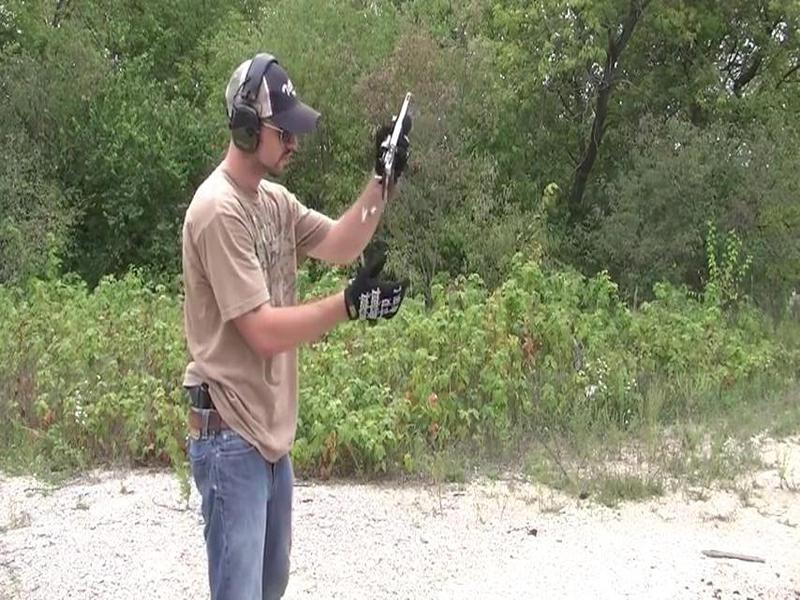Revolver: (366, 78, 429, 204)
